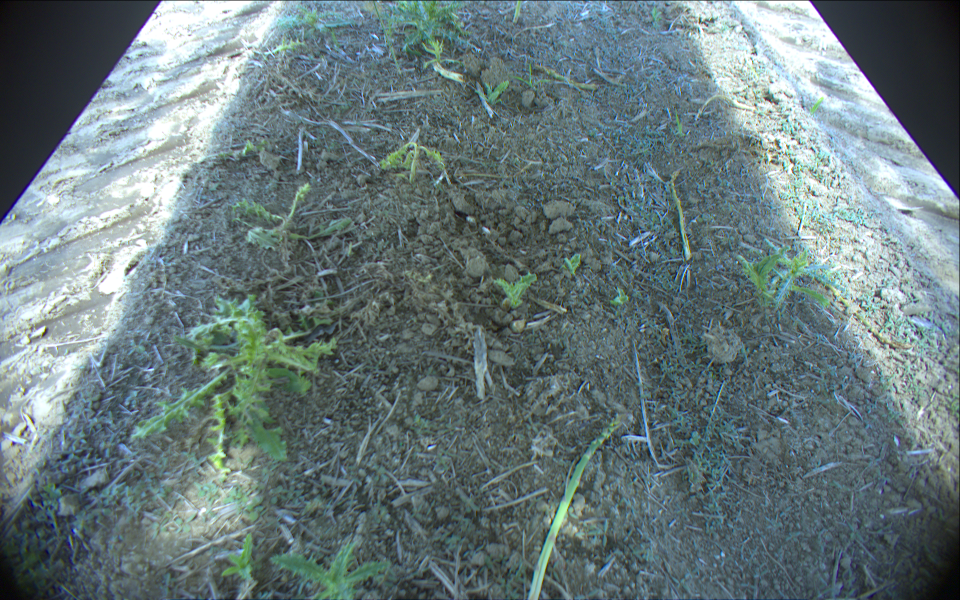aspa: (526, 418, 620, 600), (669, 169, 692, 261), (533, 64, 601, 92), (513, 1, 522, 22)
